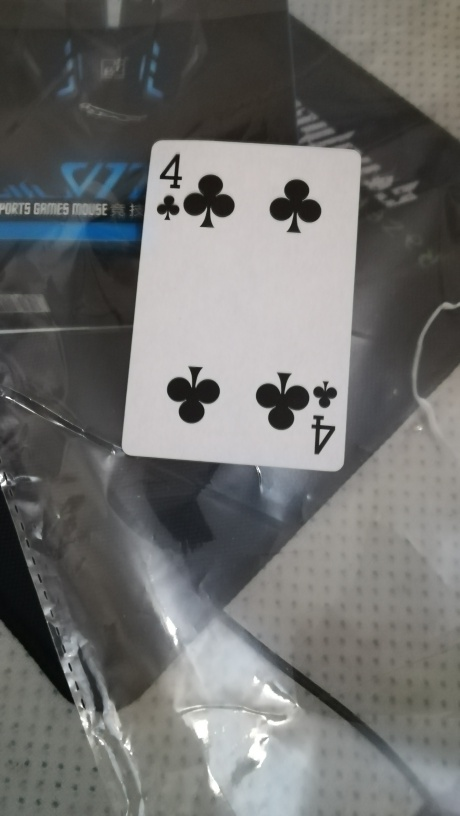mh 4: (119, 134, 365, 476)
